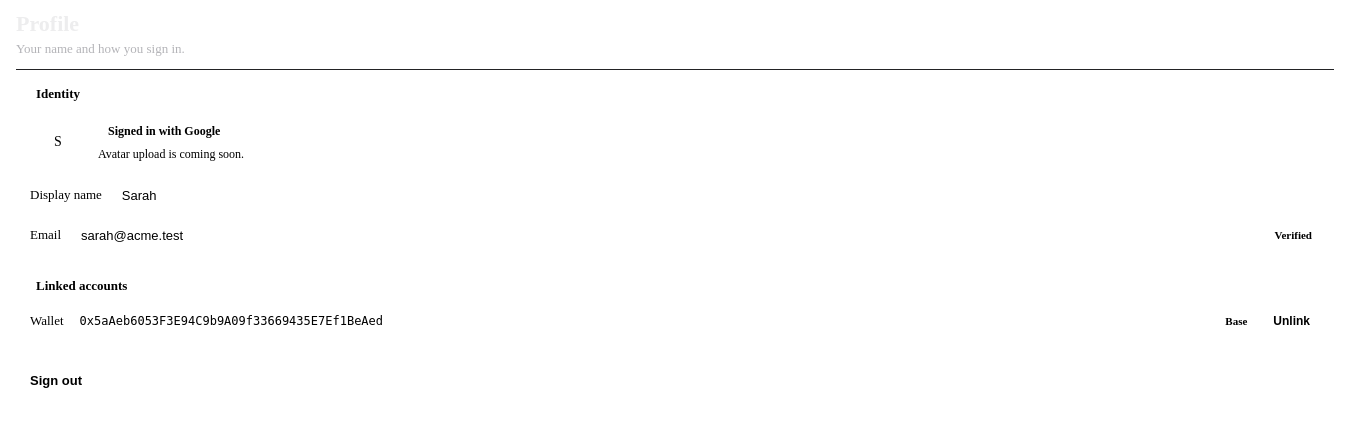
it: <ProfilePage> unlink (PRD FR-U1/L5) › surfaces the last-sign-in-method guard message next to the row
Click the button with test id "profile-unlink-wid_1" at x=1292, y=321, box [1263,307,1320,335]
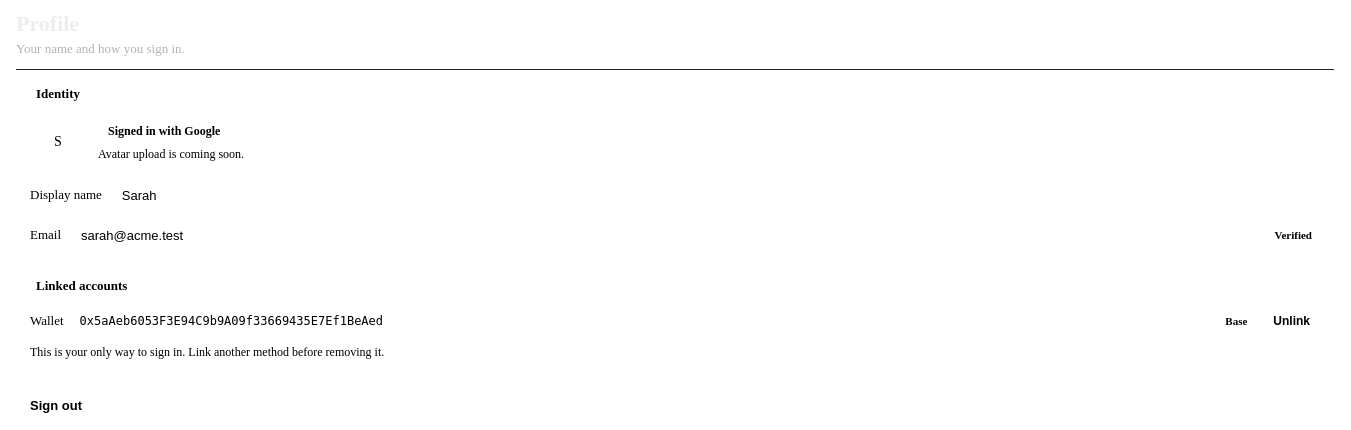
Result: the message with test id "profile-unlink-error-wid_1" shows "only way to sign in" at [30,345,384,359]
